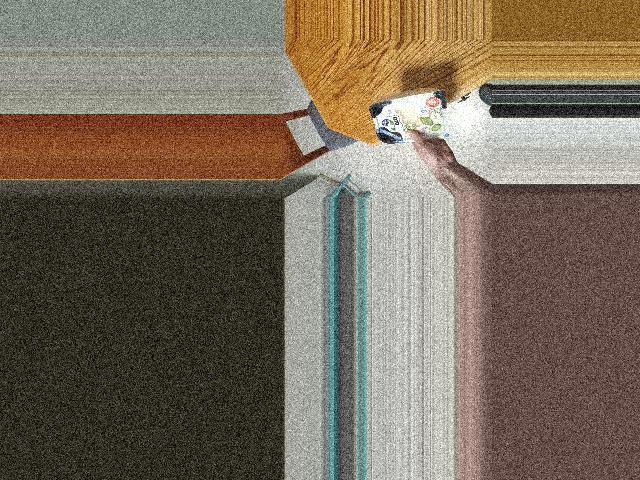cheese: (367, 98, 453, 147)
